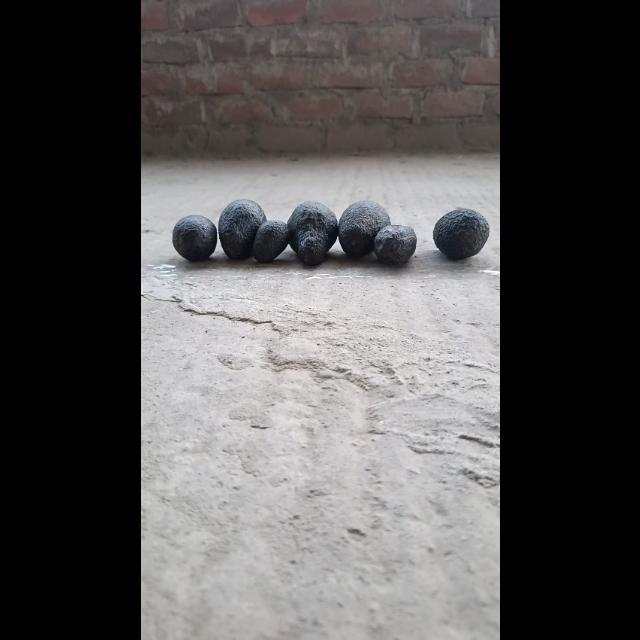Primera: (285, 201, 337, 265), (430, 207, 490, 260), (337, 200, 389, 258), (218, 198, 264, 260)
Segunda: (170, 213, 217, 260), (371, 222, 417, 266)
Tercera: (251, 220, 289, 264)
